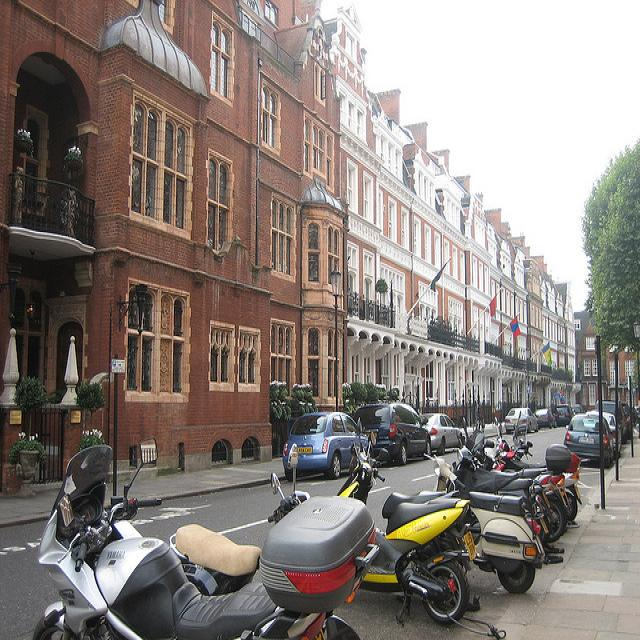motor: (37, 436, 379, 640), (426, 454, 548, 595), (360, 490, 469, 627), (454, 435, 563, 555), (462, 417, 564, 540), (334, 416, 448, 522), (494, 419, 584, 528)
